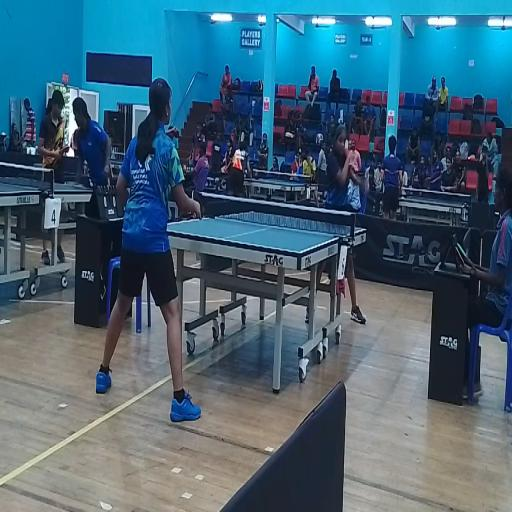ball: (344, 139, 349, 149)
